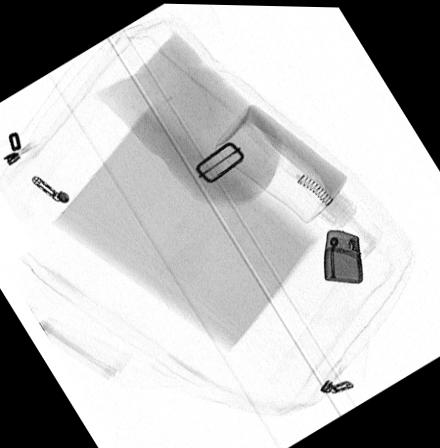Lighter: (323, 228, 363, 282)
